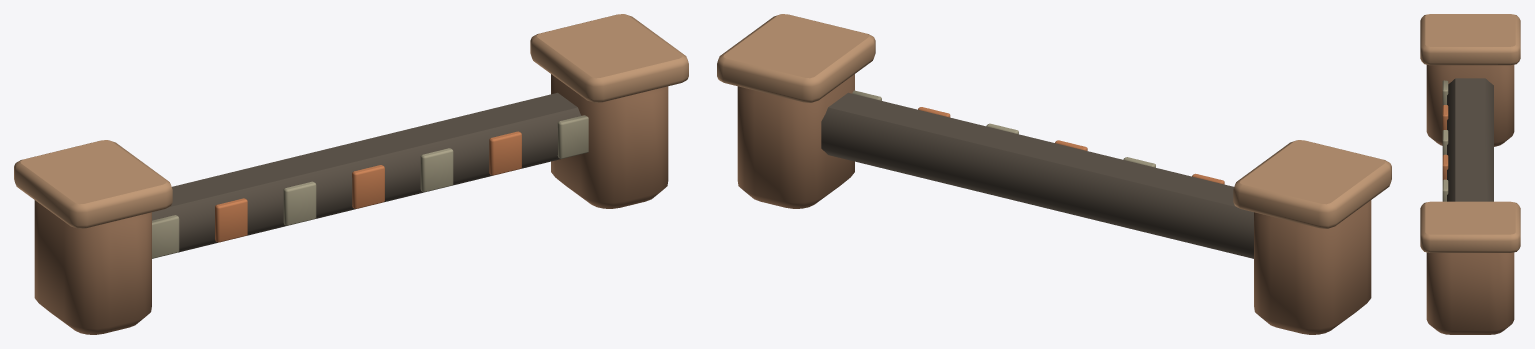
File: barrier.glb
3 views of the same model, side by side, from view 1: azimuth 30°, elevation 25°; view 2: azimuth 150°, elevation 25°; view 3: azimuth 270°, elevation 25° (orthographic). The views are drawn at different scales.
Visible parts, largest first — view 1: Barrier; view 2: Barrier; view 3: Barrier.
Boxes of the visible parts, x1=… form: Barrier: x1=14, y1=14, x2=688, y2=334; Barrier: x1=717, y1=14, x2=1391, y2=334; Barrier: x1=1420, y1=14, x2=1520, y2=334.
Bounding box in the file's own units: 3.4 × 0.745 × 0.64.
